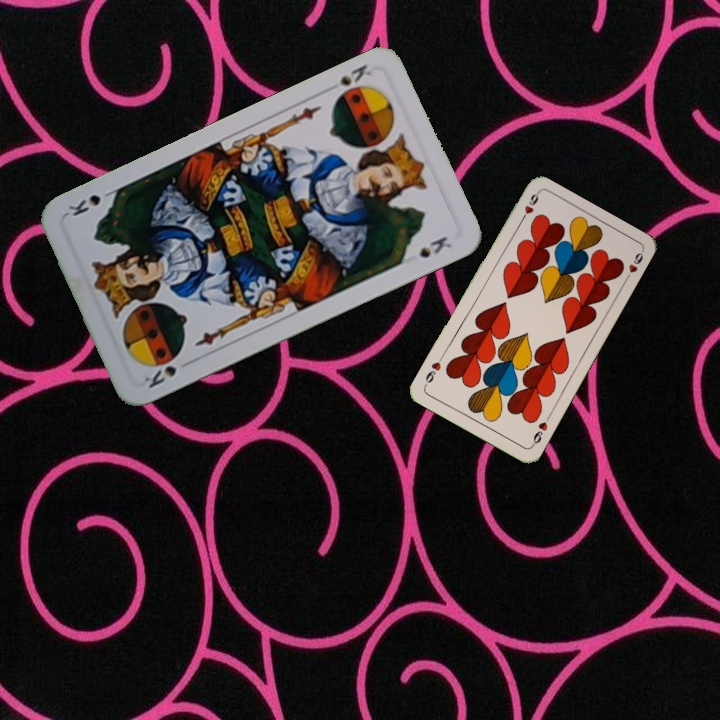H9: (527, 412, 553, 449), (515, 189, 541, 226)
SK: (140, 356, 195, 391), (334, 60, 379, 89)
